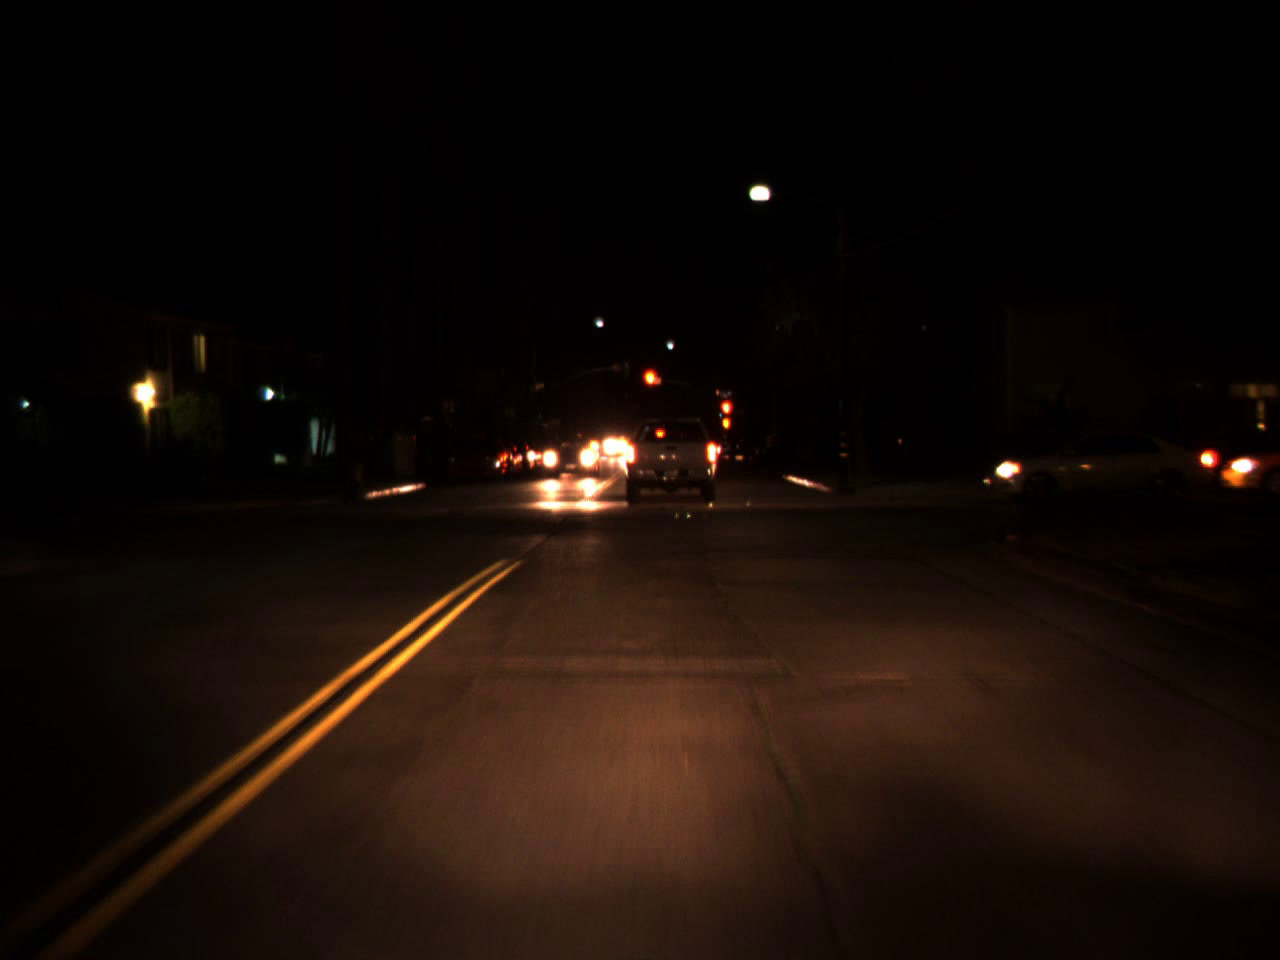stop: (640, 367, 664, 402), (718, 399, 731, 428)
